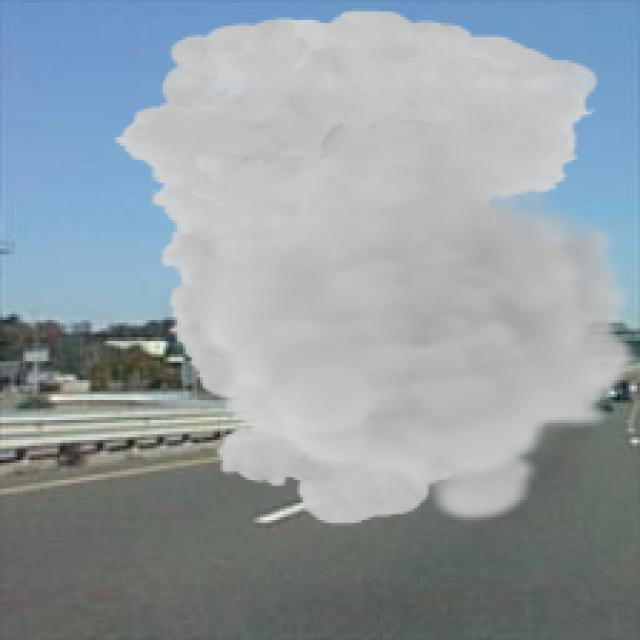Smoke: (112, 9, 638, 528)
